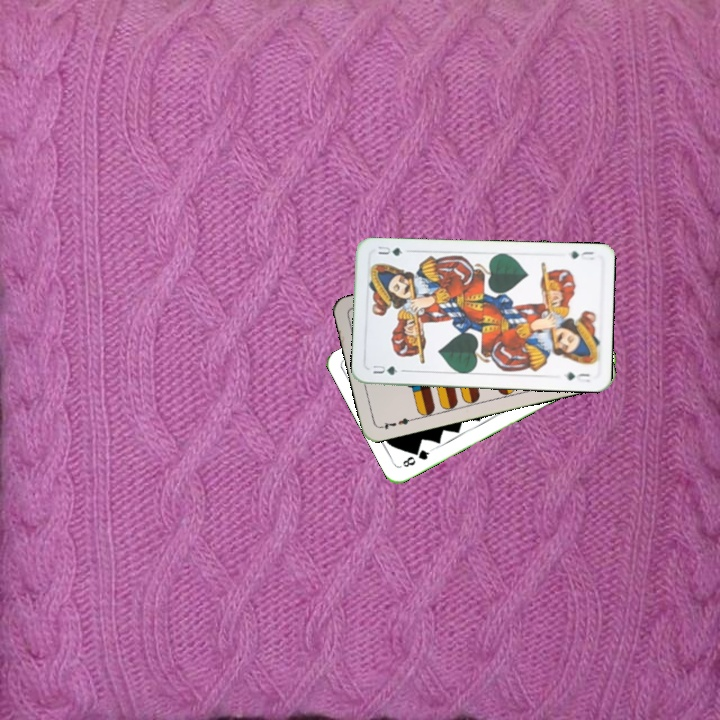E7: (376, 414, 417, 432)
G8: (398, 445, 435, 470)
GU: (369, 361, 400, 377), (566, 247, 597, 263)
